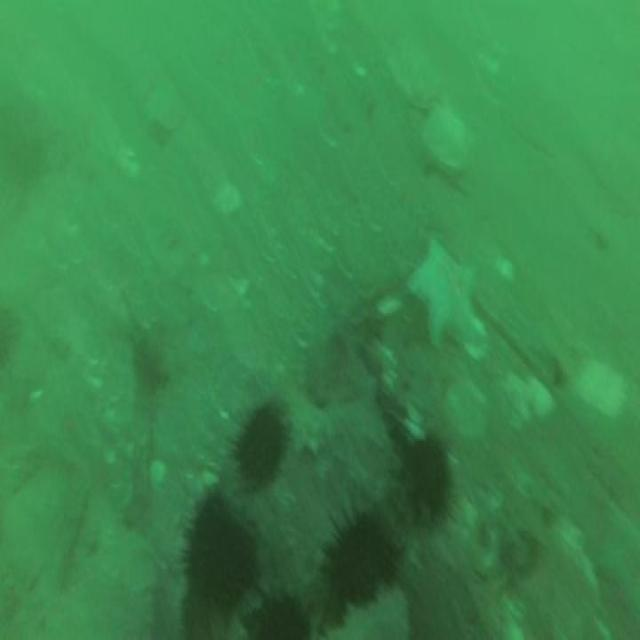echinus: (185, 500, 256, 606), (322, 515, 396, 607), (232, 403, 287, 485), (398, 444, 447, 515)
scallop: (422, 106, 471, 166)
starfish: (407, 237, 477, 345)
